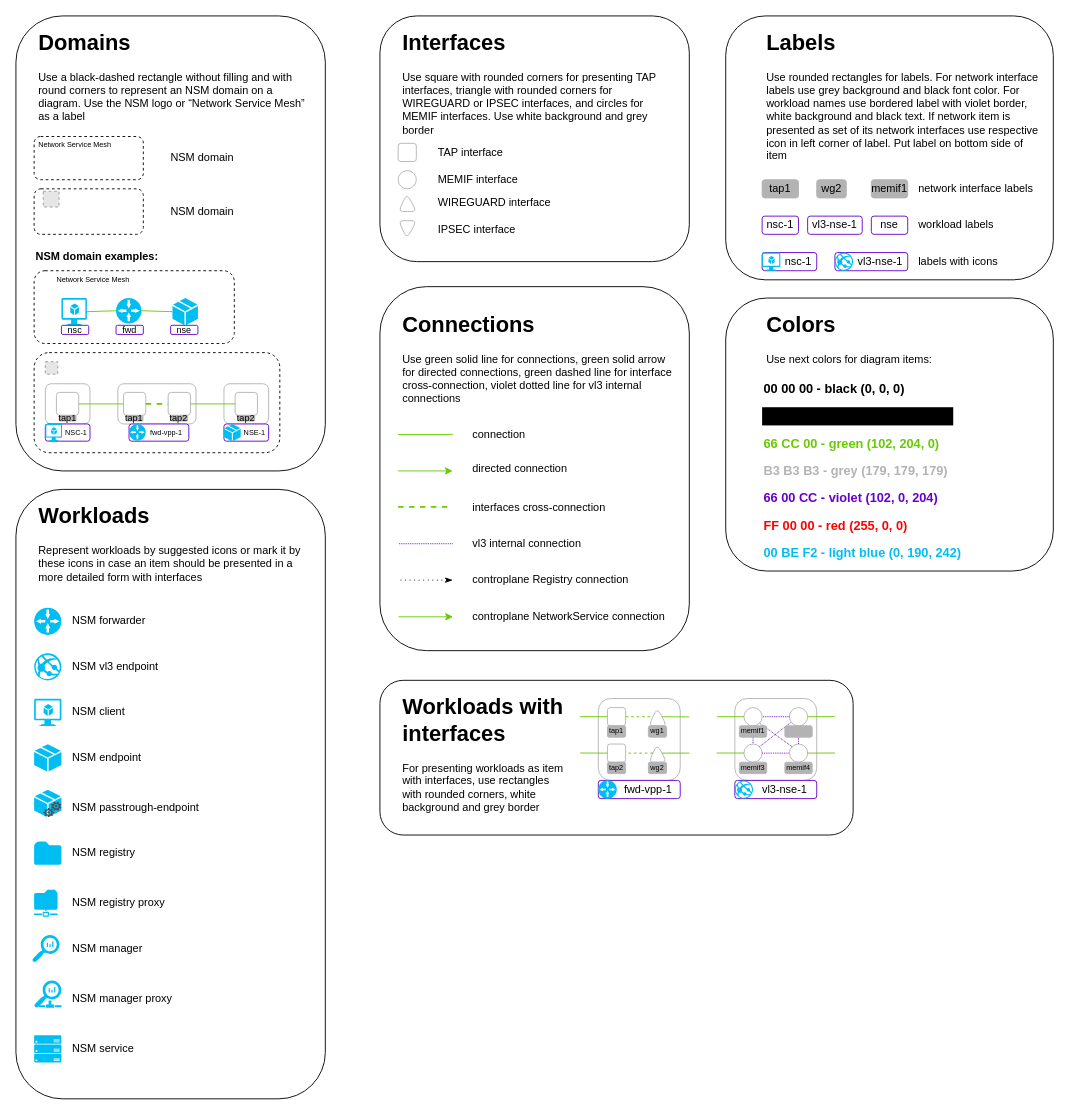
Some shapes in this 1069 by 1115 pixel diagram are drawn without their labels. Grey dashed boxes stand in for pictures. The shapes that lost their labels are listed below. From the top down, each one's box as (x1, y1, x2, y2) in pixels, then its label:
(762, 407, 953, 425): FF FF FF - white (255, 255, 255)
(784, 725, 812, 737): memif2
